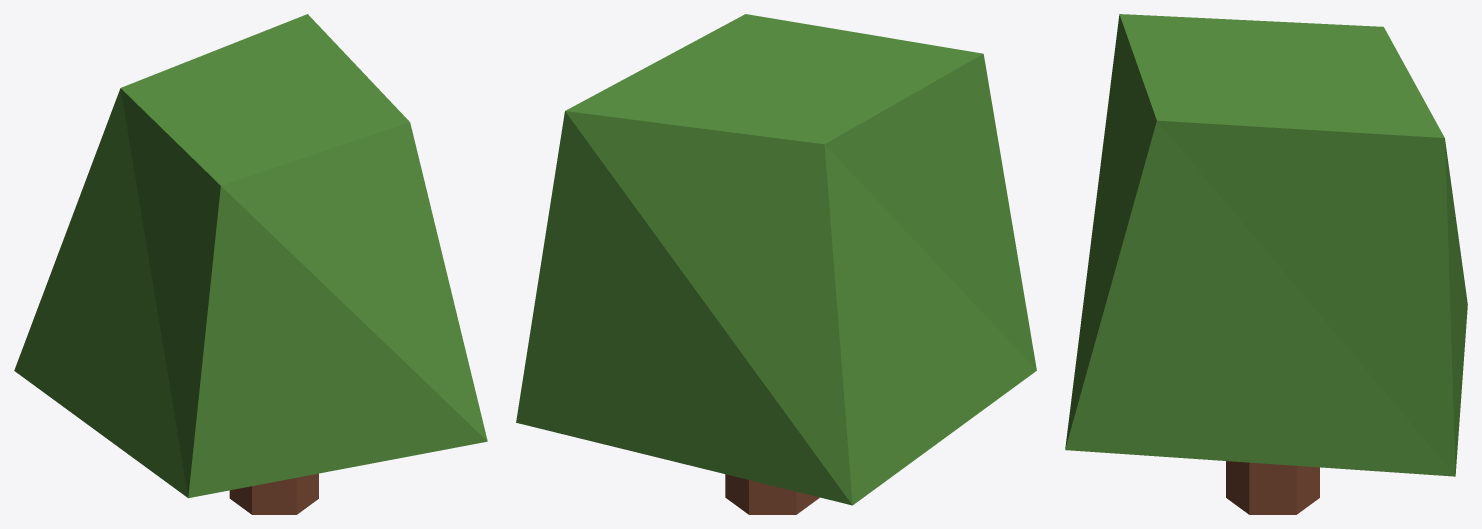
Rendered from Bush_11_summer_mat.fbx.
3 renders of one model, left to right at view 1: azimuth 30°, elevation 25°; view 2: azimuth 150°, elevation 25°; view 3: azimuth 270°, elevation 25°, orthographic. The views are drawn at different scales.
Parts seen in each view (by area): view 1: Bush_11_summer_mat; view 2: Bush_11_summer_mat; view 3: Bush_11_summer_mat.
Part boxes in pixels (bbox=[...]): Bush_11_summer_mat: bbox=[14, 14, 487, 514]; Bush_11_summer_mat: bbox=[516, 14, 1036, 514]; Bush_11_summer_mat: bbox=[1065, 14, 1467, 514].
Bounding box in the file's own units: 50.88 × 59.59 × 51.95.
